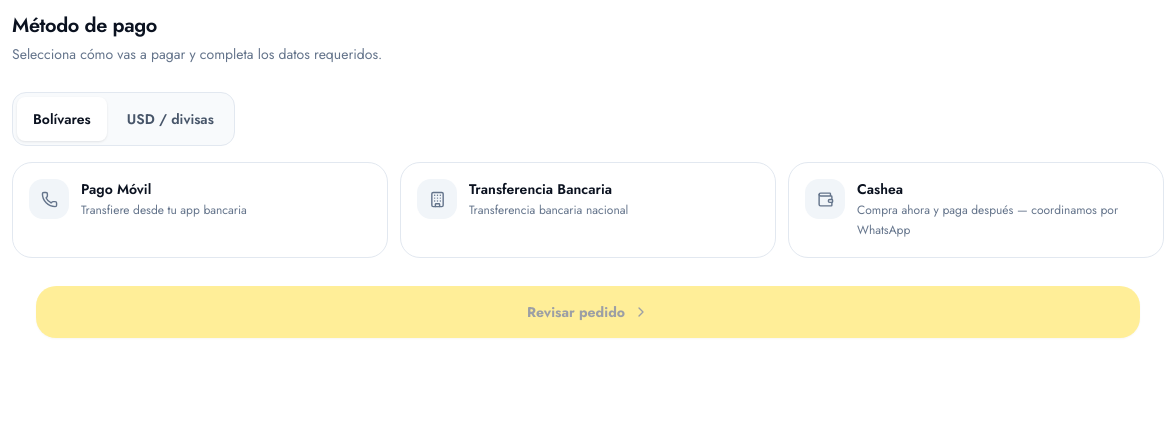
it: PaymentForm currency groups › USD/divisas muestra Binance, Zelle, Efectivo y custom activos
This screenshot has width=1176, height=421.
Click the tab "USD / divisas" at point(170, 119), box top-left (111, 97), bottom-right (230, 141)
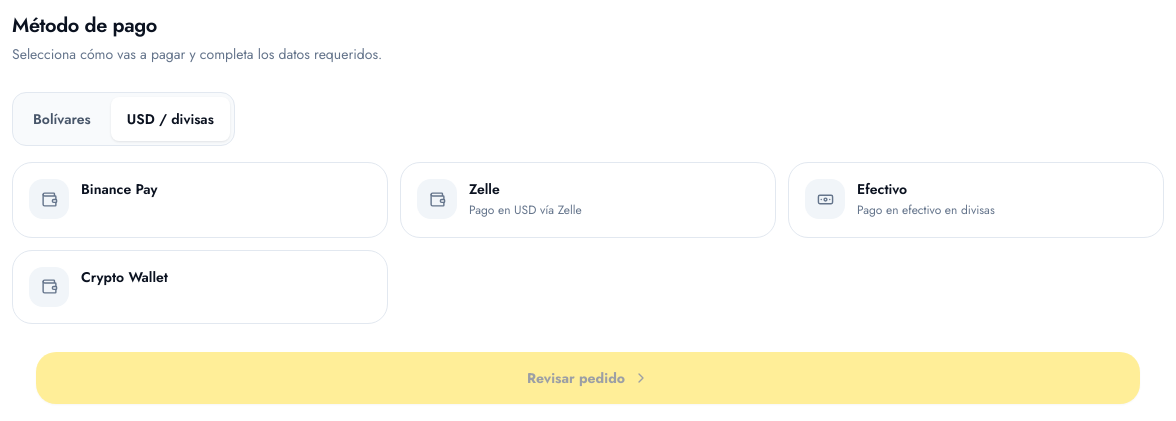
Expected: the button "Binance Pay" is shown, top-left (12, 162), bottom-right (388, 238)
Expected: the button "Zelle Pago en USD vía Zelle" is shown, top-left (400, 162), bottom-right (776, 238)
Expected: the button "Efectivo Pago en efectivo en divisas" is shown, top-left (788, 162), bottom-right (1164, 238)
